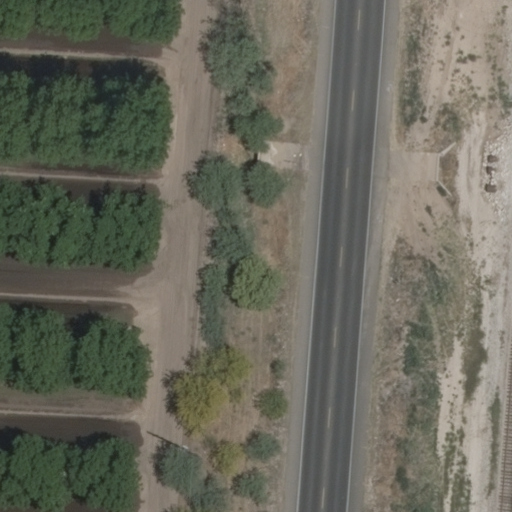DT: (179, 440, 211, 464)
